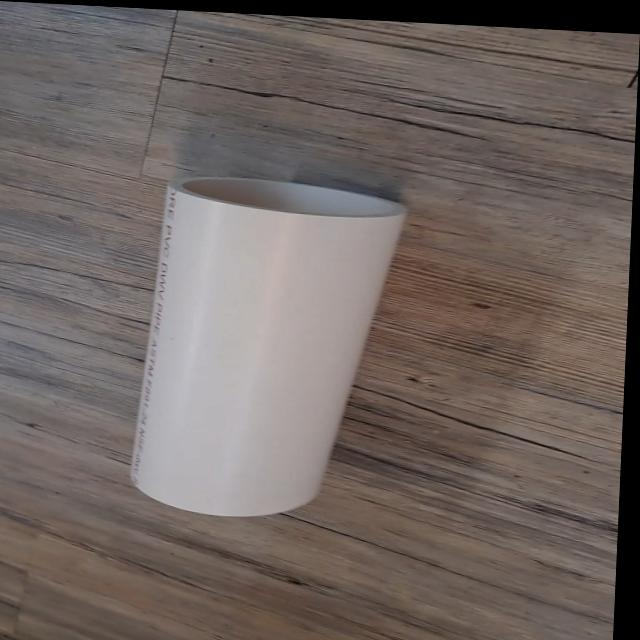CORAL: (115, 167, 419, 530)
